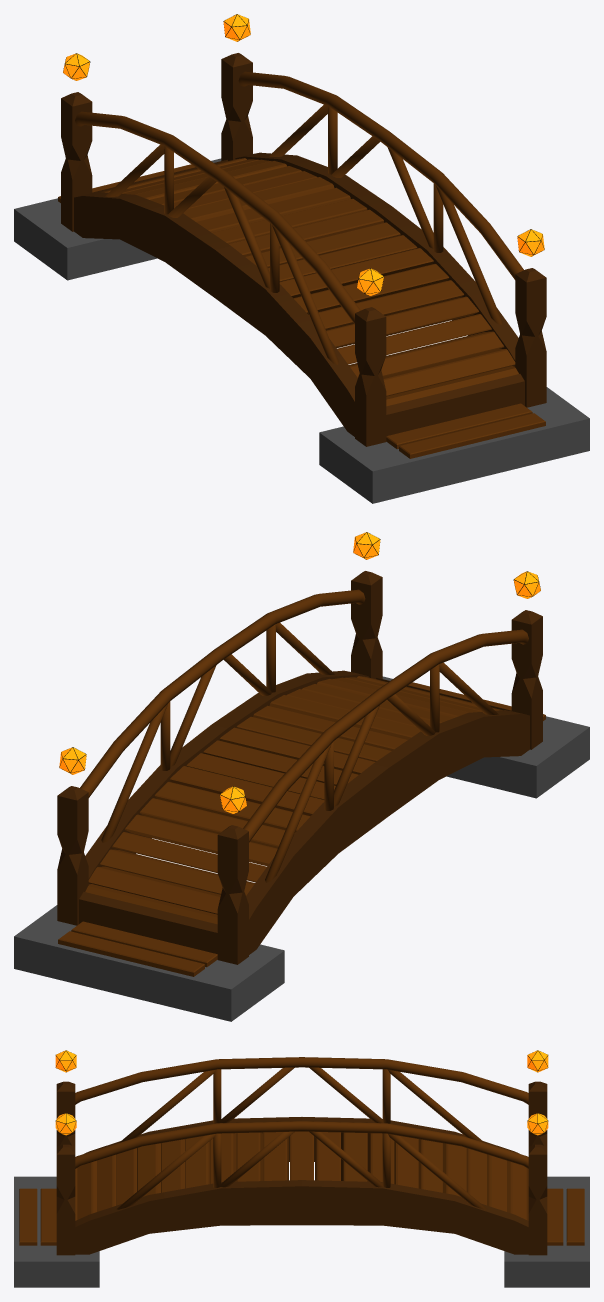
Rendered from forest stream bridge .fbx.
3 views of the same model, one above another, from view 1: azimuth 30°, elevation 25°; view 2: azimuth 150°, elevation 25°; view 3: azimuth 270°, elevation 25° (orthographic). The views are drawn at different scales.
Parts seen in each view (by area): view 1: Cube.002, Cube.001; view 2: Cube.002, Cube.001; view 3: Cube.002, Cube.001.
Boxes of the visible parts, box(x1,y1,x2,y2) form: Cube.002: box(14, 14, 589, 503); Cube.001: box(75, 71, 523, 364); Cube.002: box(14, 532, 589, 1021); Cube.001: box(80, 589, 528, 882); Cube.002: box(14, 1050, 589, 1287); Cube.001: box(75, 1057, 528, 1209).
Bounding box in the file's own units: 550 × 495 × 1573.
